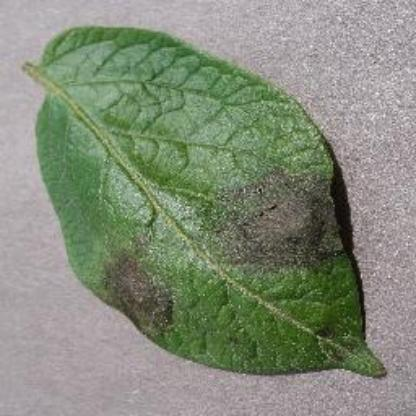Late-Blight: (21, 20, 396, 388)
